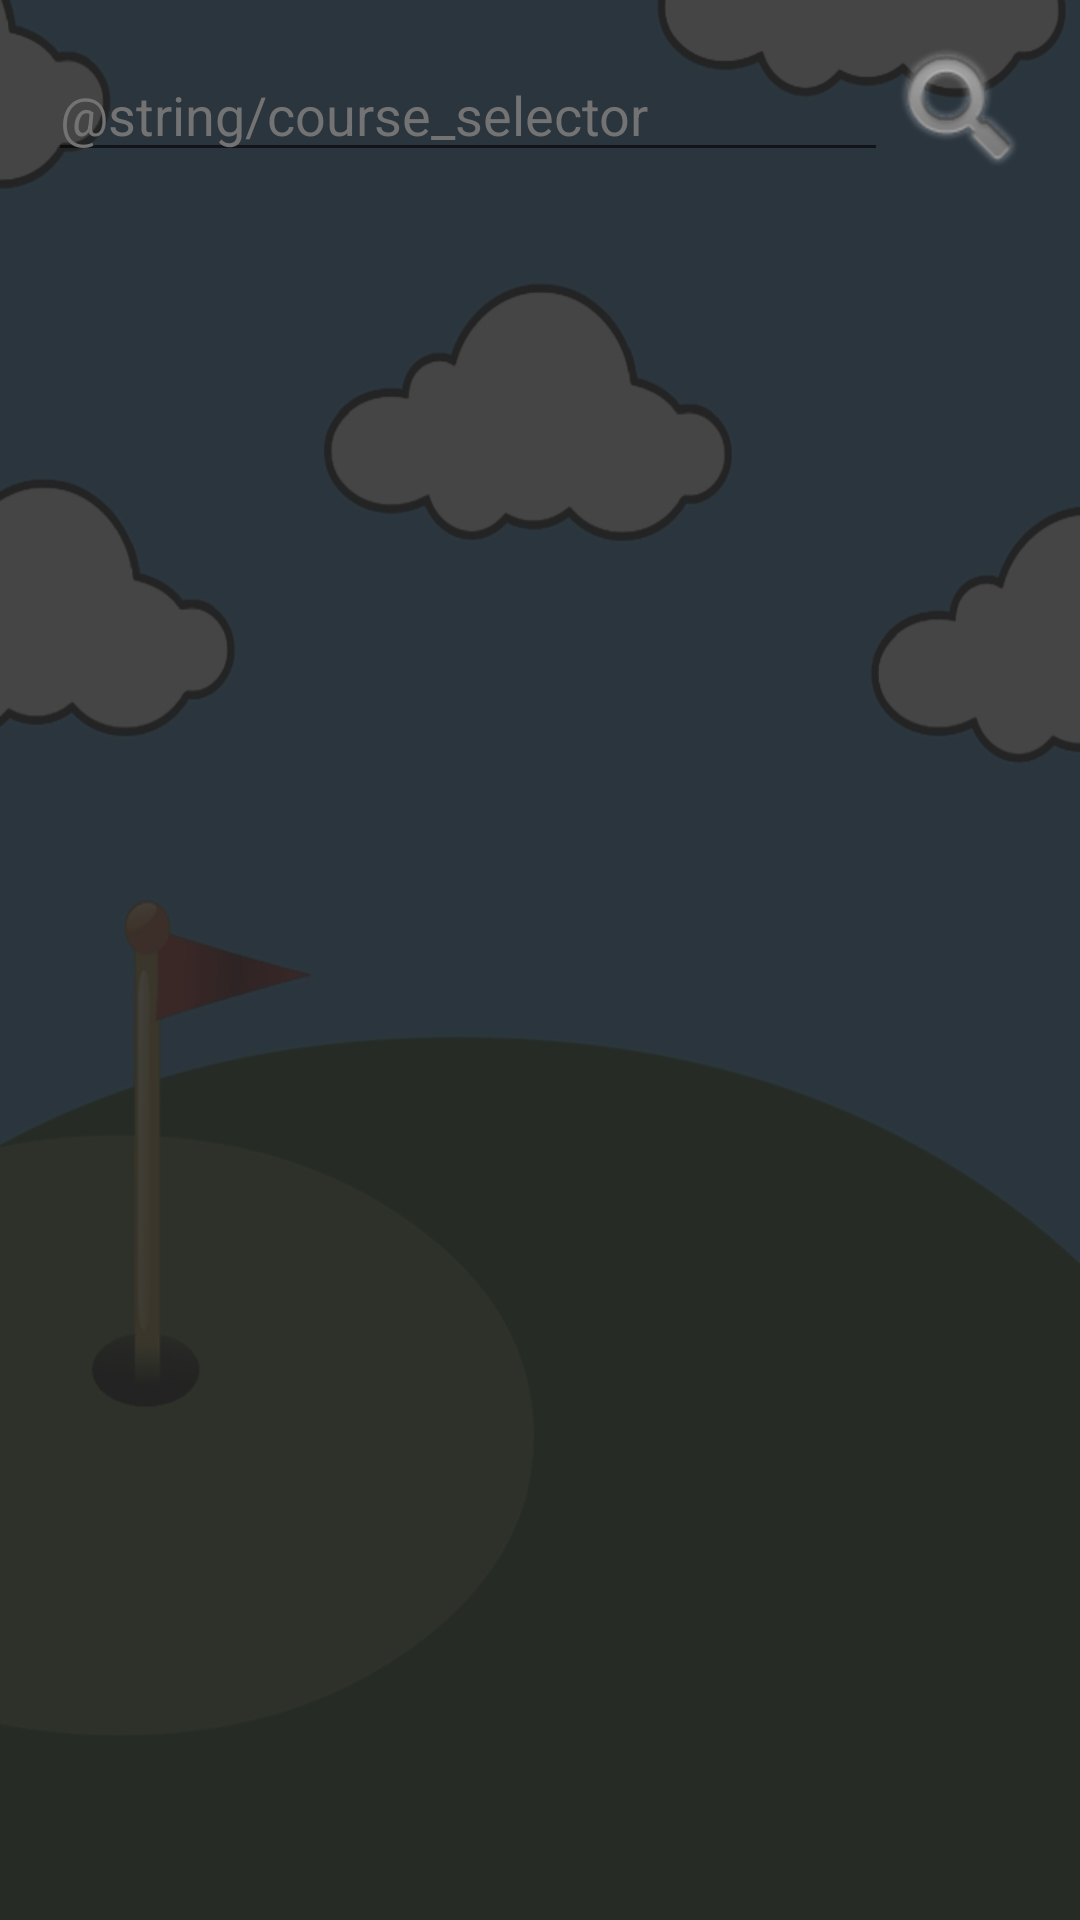

Where icons sit on this 1080x1920 app screen, as (x1, y1, x2, y2):
search category: (888, 48, 1032, 162)
